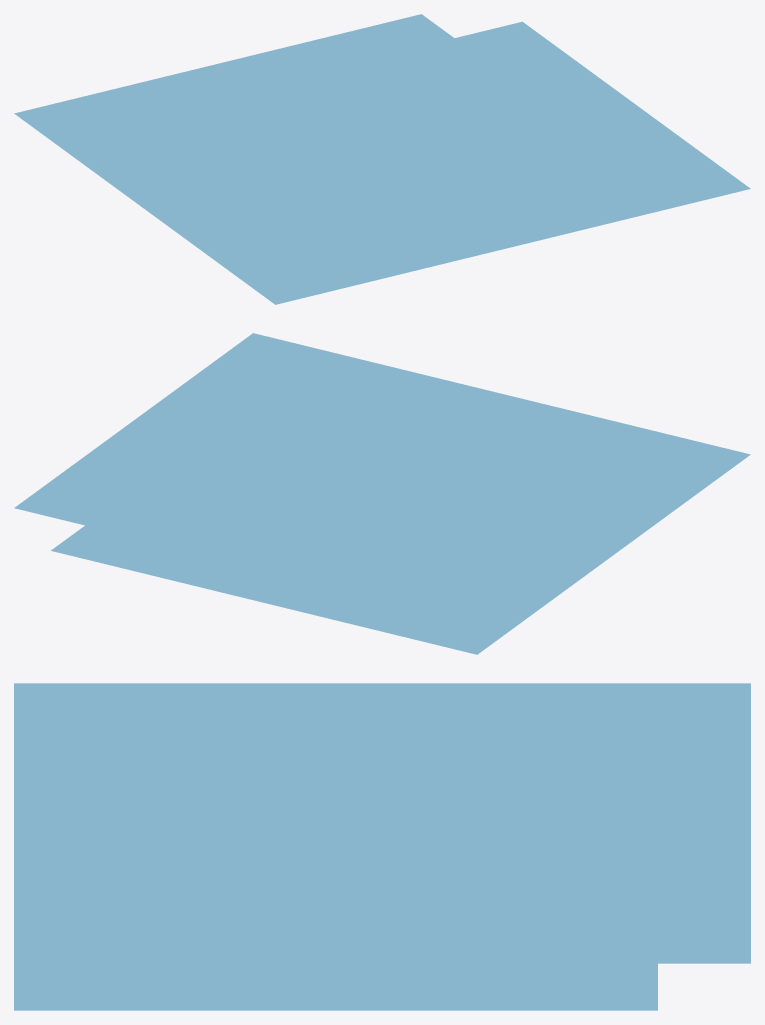
Rendered from mesh_police_Floor.fbx.
The picture shows the model from 3 angles, top to bottom: view 1: azimuth 30°, elevation 25°; view 2: azimuth 150°, elevation 25°; view 3: azimuth 270°, elevation 25°; orthographic projection. The views are drawn at different scales.
Parts seen in each view (by area): view 1: Police_FloorPlane1F; view 2: Police_FloorPlane1F; view 3: Police_FloorPlane1F.
Part boxes in pixels (x1=…): Police_FloorPlane1F: x1=14, y1=14, x2=750, y2=304; Police_FloorPlane1F: x1=14, y1=333, x2=750, y2=654; Police_FloorPlane1F: x1=14, y1=683, x2=750, y2=1010.
Bounding box in the file's own units: 1050 × 2e-13 × 1000.
